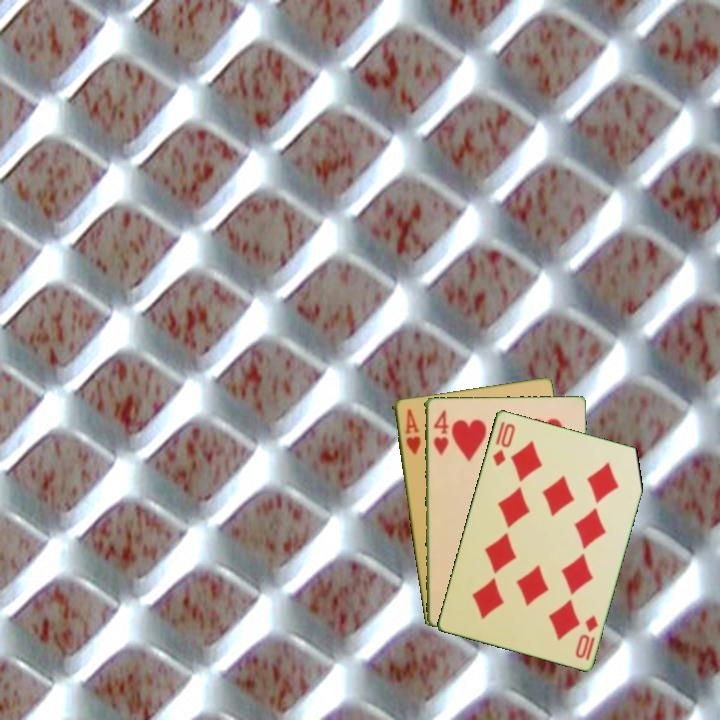10d: (571, 611, 601, 663), (489, 418, 518, 469)
4h: (430, 406, 450, 458)
Ah: (401, 405, 423, 457)
